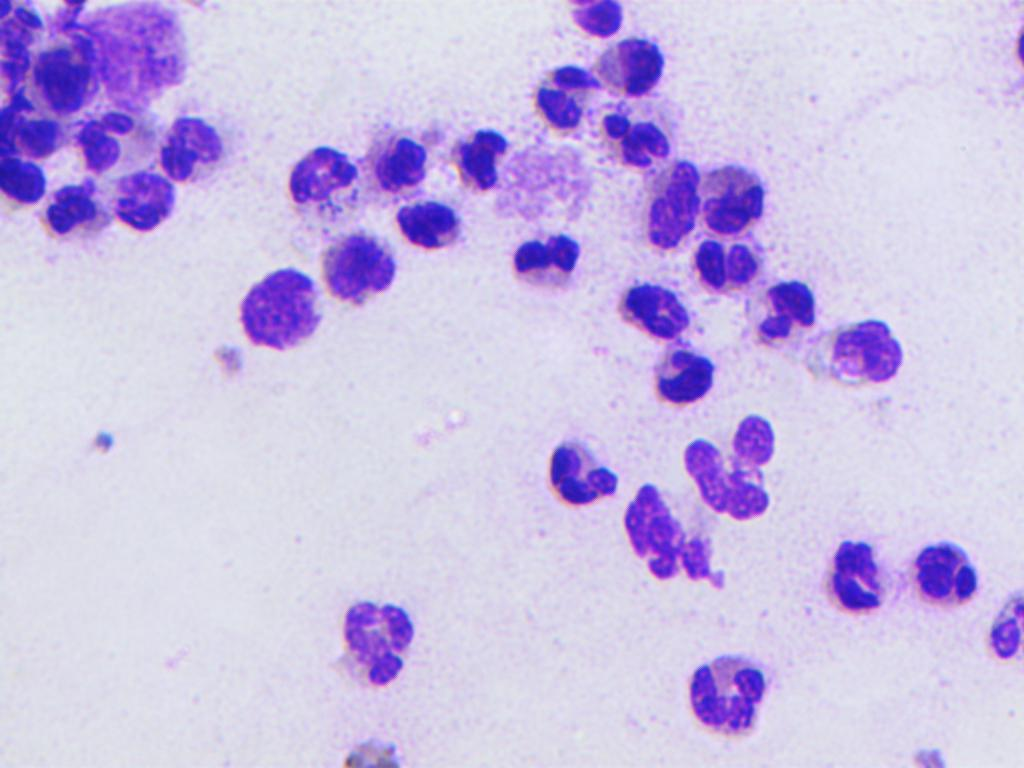neutrophil: (613, 469, 730, 597), (685, 406, 785, 528), (31, 14, 149, 116), (664, 639, 782, 736), (811, 295, 913, 402), (323, 590, 427, 693), (808, 531, 901, 629), (278, 132, 368, 233), (528, 418, 623, 511), (444, 100, 530, 201), (632, 143, 705, 260), (517, 50, 606, 144), (374, 184, 480, 262), (677, 230, 784, 306), (592, 102, 703, 172), (149, 110, 237, 194), (579, 31, 679, 104), (906, 530, 986, 620), (493, 229, 590, 303), (752, 272, 835, 358), (103, 164, 190, 246), (233, 270, 321, 346), (66, 108, 157, 176), (373, 111, 442, 197), (696, 158, 770, 238), (38, 172, 115, 246), (318, 229, 389, 309), (642, 340, 726, 401), (623, 273, 692, 347), (986, 571, 1024, 670), (568, 0, 637, 51)
